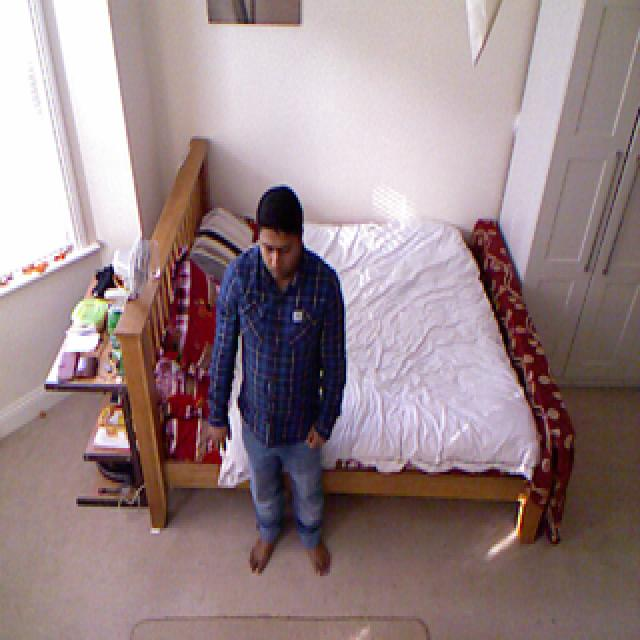standing: (215, 182, 349, 580)
